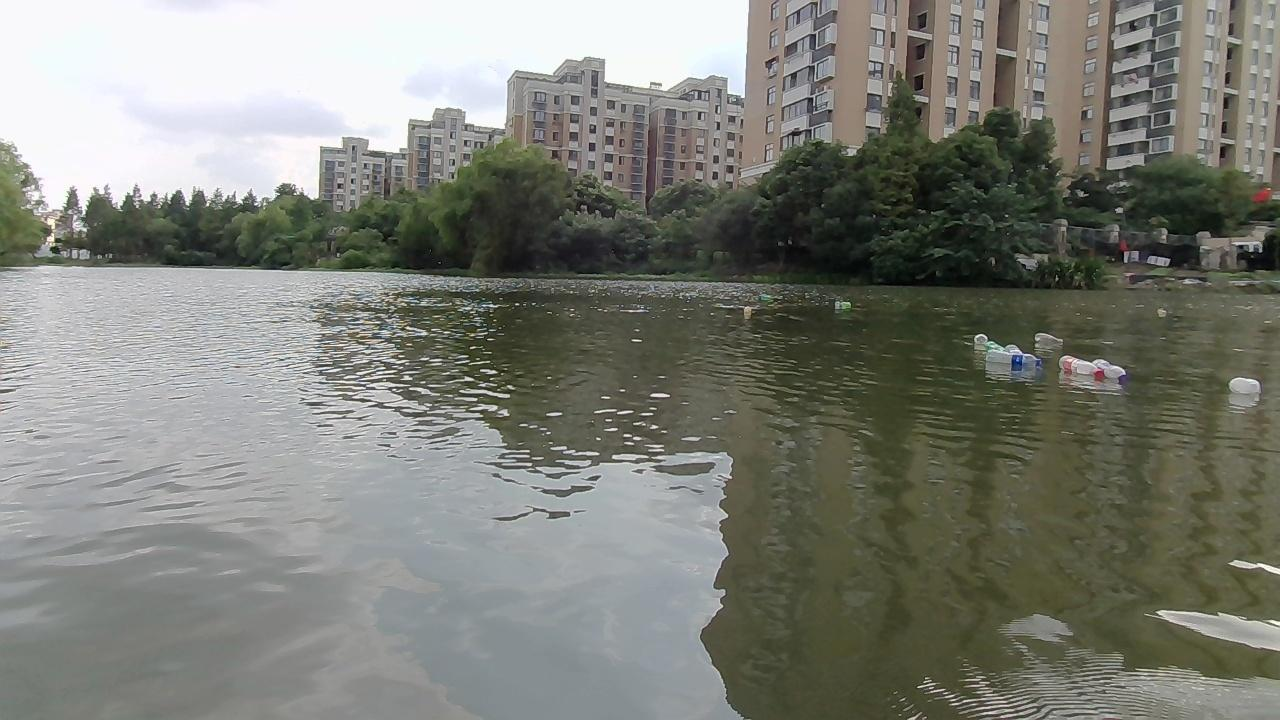bottle: (990, 349, 1041, 368), (1057, 354, 1098, 377), (1091, 356, 1129, 380), (972, 334, 1006, 357), (1229, 375, 1260, 397), (1031, 332, 1067, 345), (1006, 342, 1028, 361), (755, 289, 778, 303), (835, 297, 857, 310), (1156, 306, 1168, 321), (740, 307, 757, 317)
